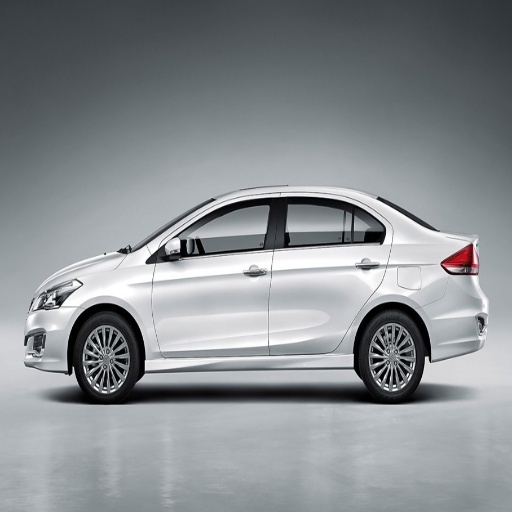back_left_door: (270, 194, 391, 354)
front_left_door: (151, 196, 280, 356)
